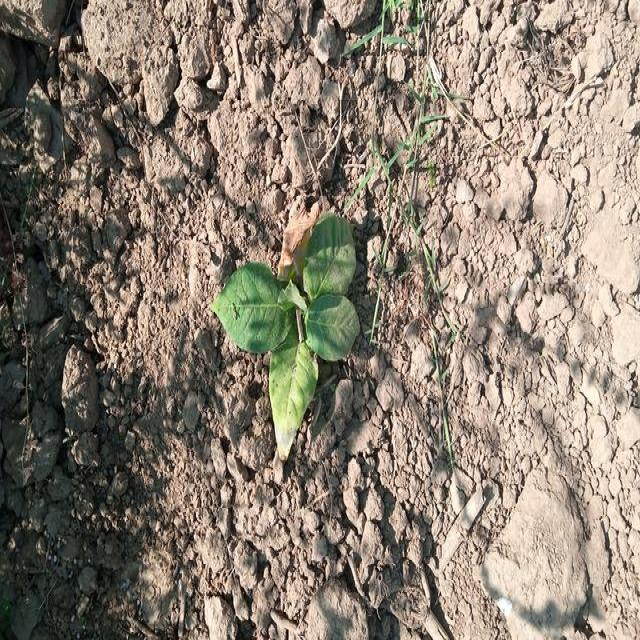crop: (218, 207, 358, 464)
